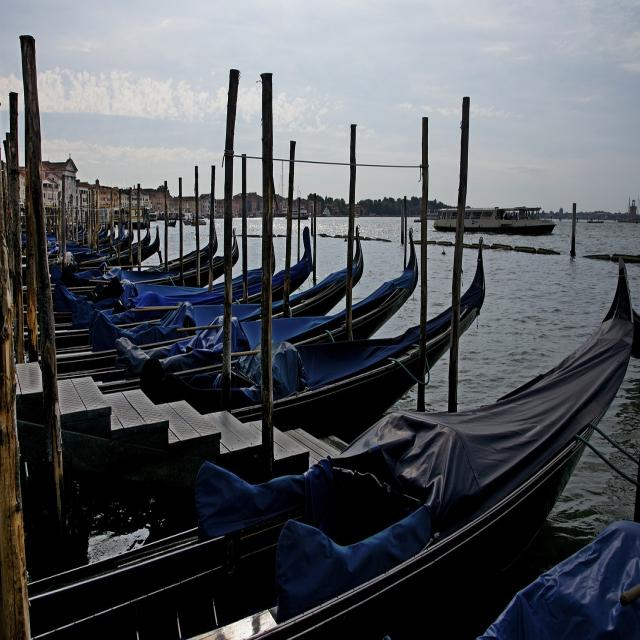boat: (0, 259, 637, 640), (35, 235, 508, 442), (64, 212, 440, 404)
